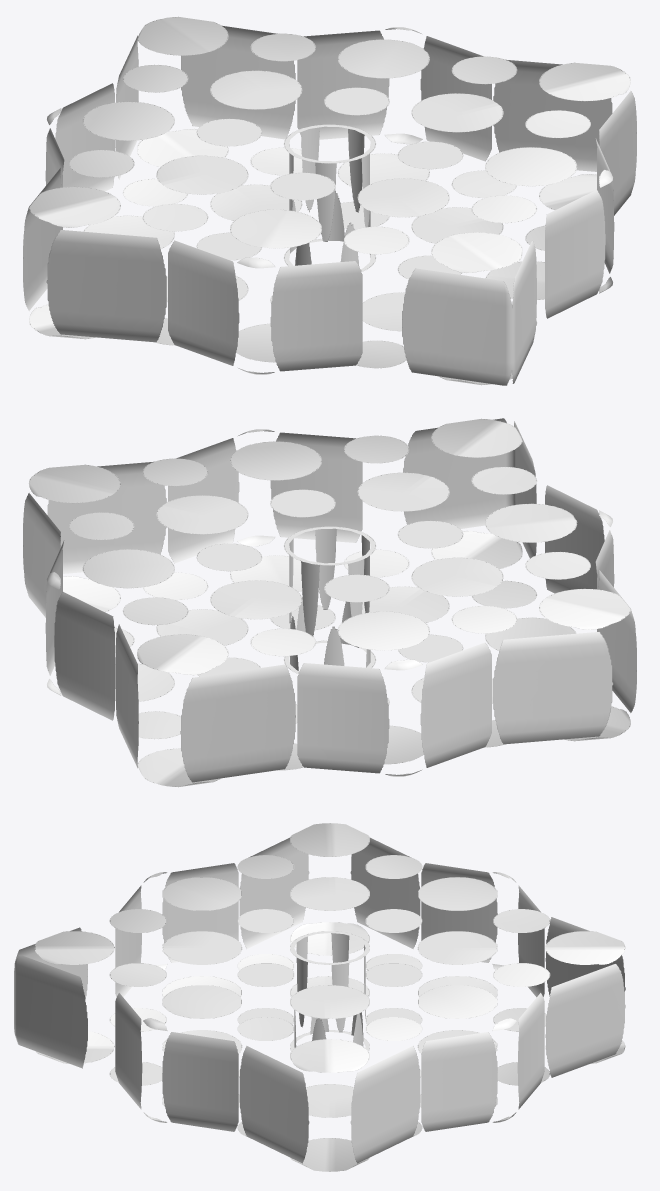
The picture shows the model from 3 angles, top to bottom: view 1: azimuth 30°, elevation 25°; view 2: azimuth 150°, elevation 25°; view 3: azimuth 270°, elevation 25°; orthographic projection. The views are drawn at different scales.
Parts seen in each view (by area): view 1: Chakra.010; view 2: Chakra.010; view 3: Chakra.010.
Part boxes in pixels (box(x1,y1,x2,y2)): Chakra.010: box(23, 16, 636, 385); Chakra.010: box(23, 418, 636, 787); Chakra.010: box(14, 823, 625, 1171).
Bounding box in the file's own units: 415 × 71.66 × 415.
